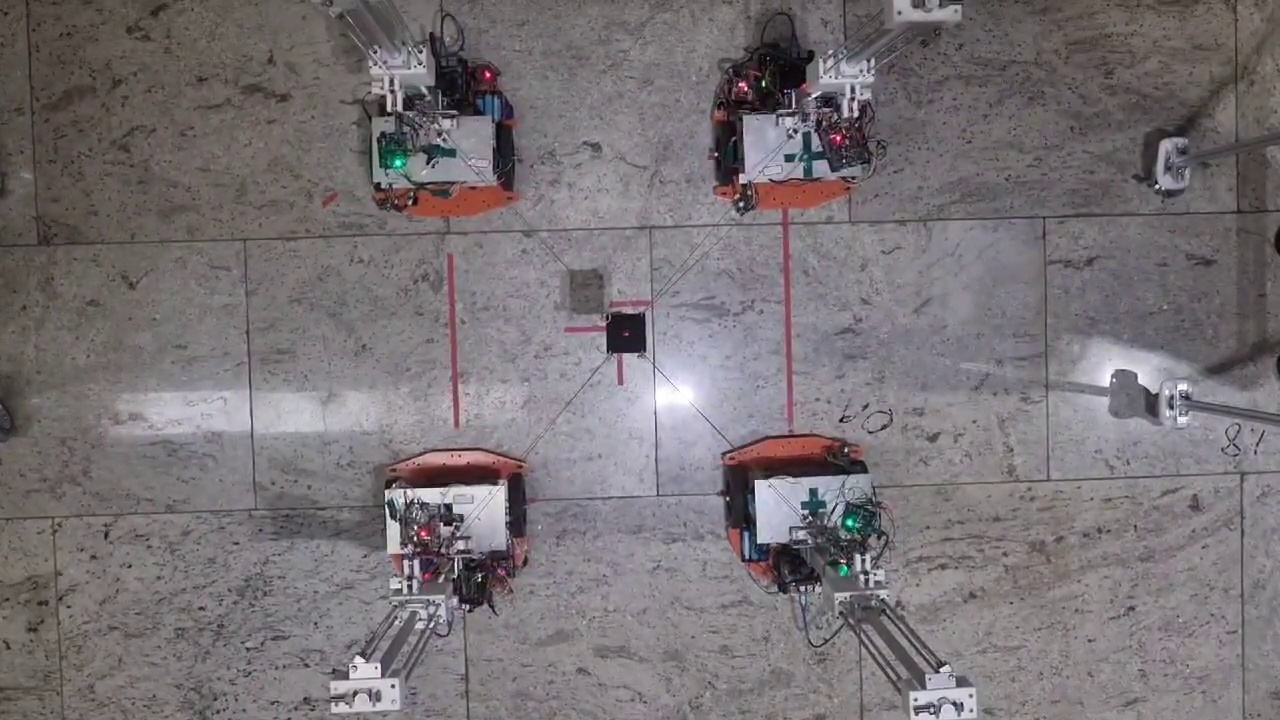e0: (605, 314, 647, 352)
r1: (725, 462, 871, 530)
r2: (715, 119, 862, 185)
r3: (372, 124, 516, 189)
r4: (384, 474, 527, 541)
y_+_axis_vector: (657, 481, 1049, 495)
y_-_axis_vector: (255, 496, 657, 510)
